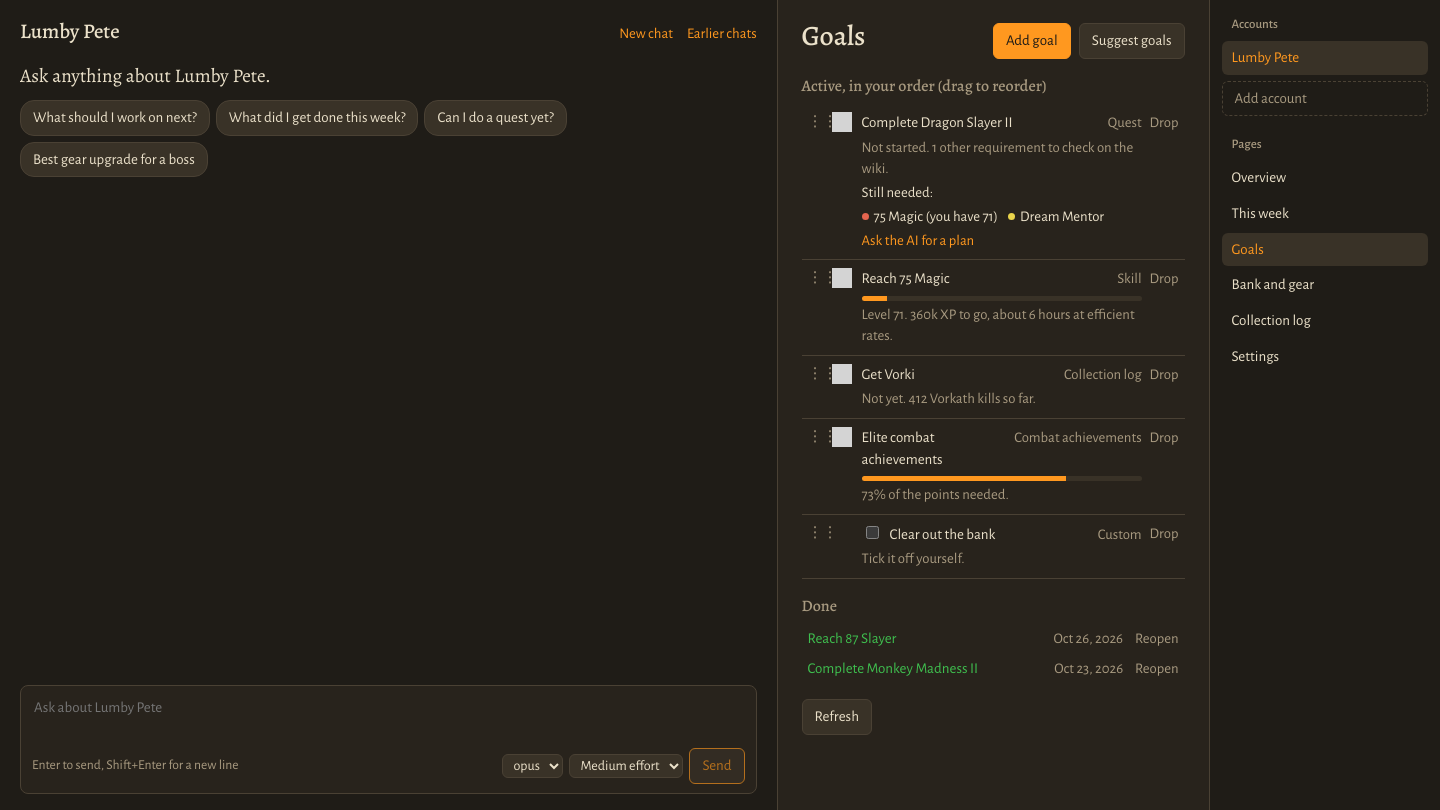
Test case: Goals › says why a change failed
This screenshot has width=1440, height=810.
Click the button with aria-label "Reopen Complete Monkey Madness II" at (1157, 668), box [1135,658,1178,679]
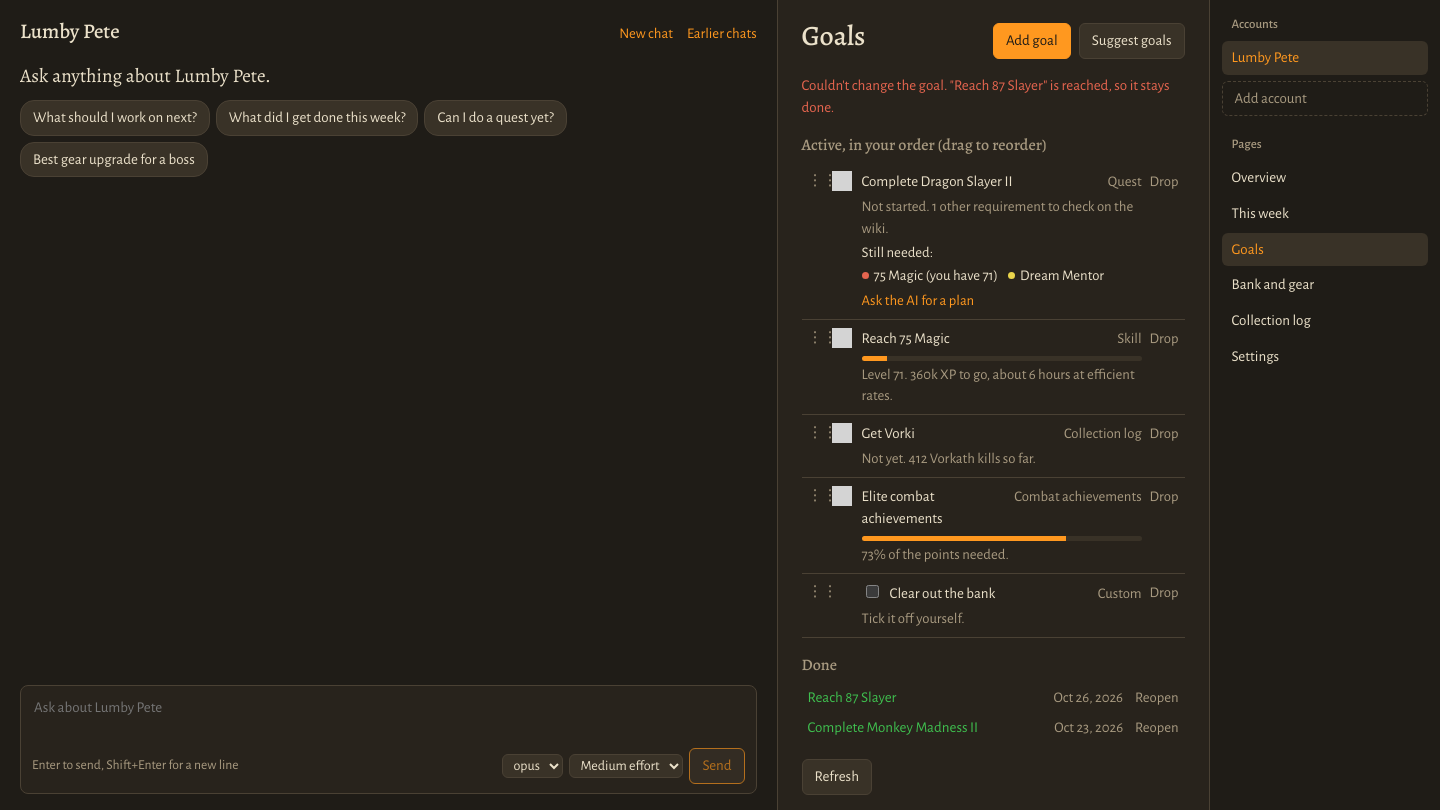
Result: the text "Couldn't change the goal. \"Reach 87 Slayer\" is reached, so it stays done." is shown at [802,75,1185,118]
